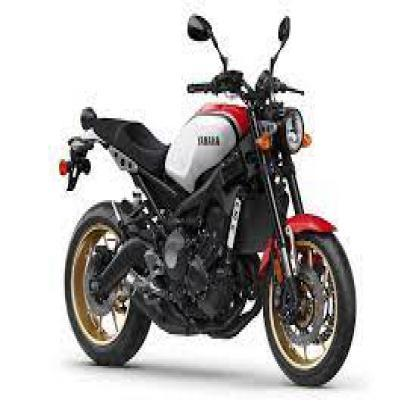Motorcycle: (49, 13, 359, 392)
